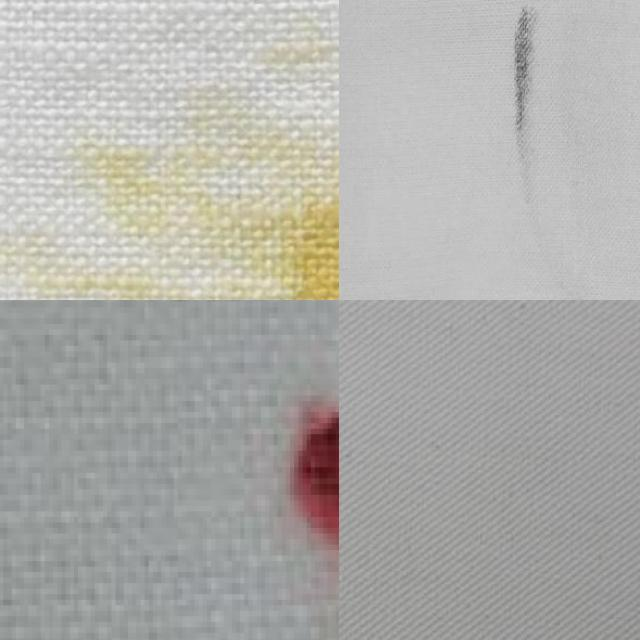Thread_other: (0, 24, 339, 300), (465, 0, 640, 300), (249, 376, 339, 570)
